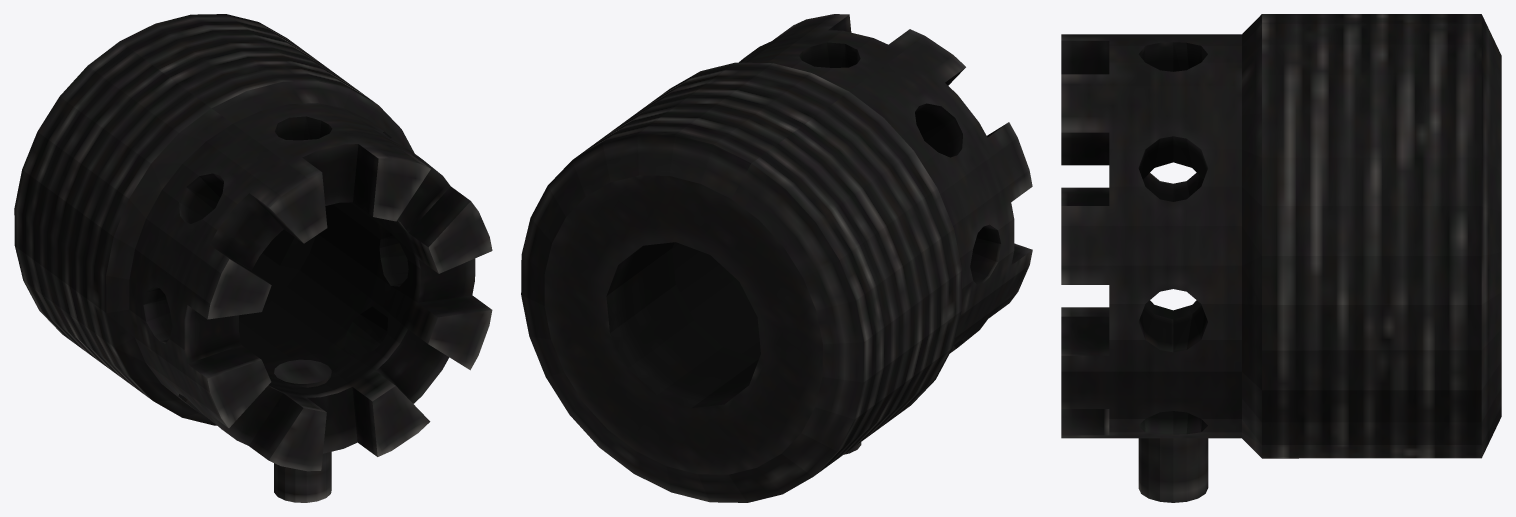
The picture shows the model from 3 angles, left to right: view 1: azimuth 30°, elevation 25°; view 2: azimuth 150°, elevation 25°; view 3: azimuth 270°, elevation 25°; orthographic projection. The views are drawn at different scales.
Visible parts, largest first — view 1: TW_5a0abb6e1526d8000a025282_PZ_Import; view 2: TW_5a0abb6e1526d8000a025282_PZ_Import; view 3: TW_5a0abb6e1526d8000a025282_PZ_Import.
Part boxes in pixels (<box>): TW_5a0abb6e1526d8000a025282_PZ_Import: <box>14,14,492,502</box>; TW_5a0abb6e1526d8000a025282_PZ_Import: <box>521,14,1032,502</box>; TW_5a0abb6e1526d8000a025282_PZ_Import: <box>1061,14,1501,502</box>.
Size of the model in its own units: 0.0142 by 0.014 by 0.016.
Materials: 1 (1 with a texture image).
